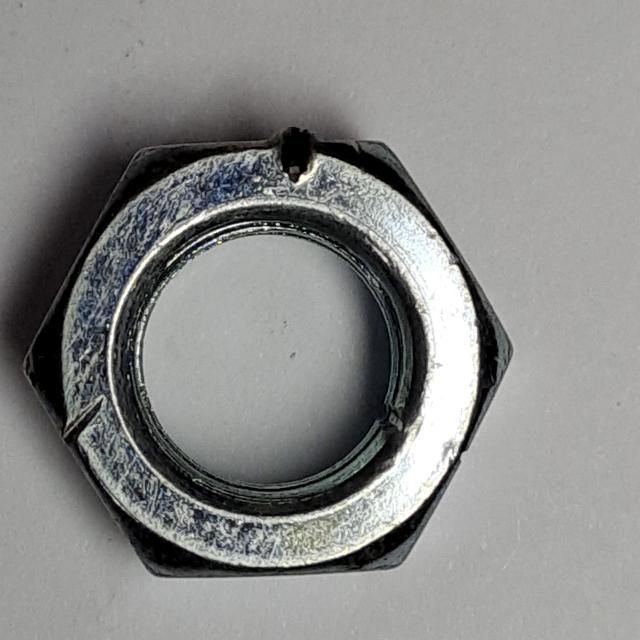Scratches: (12, 115, 527, 596)
